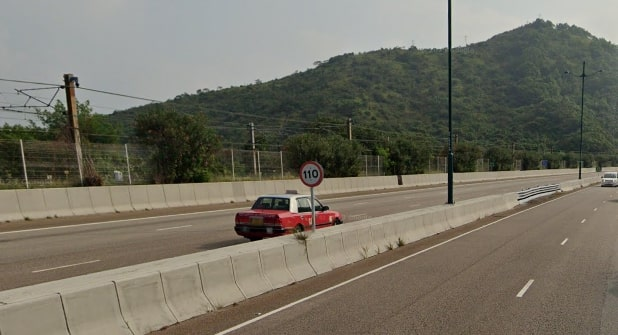Speed Limit: (297, 159, 327, 189)
